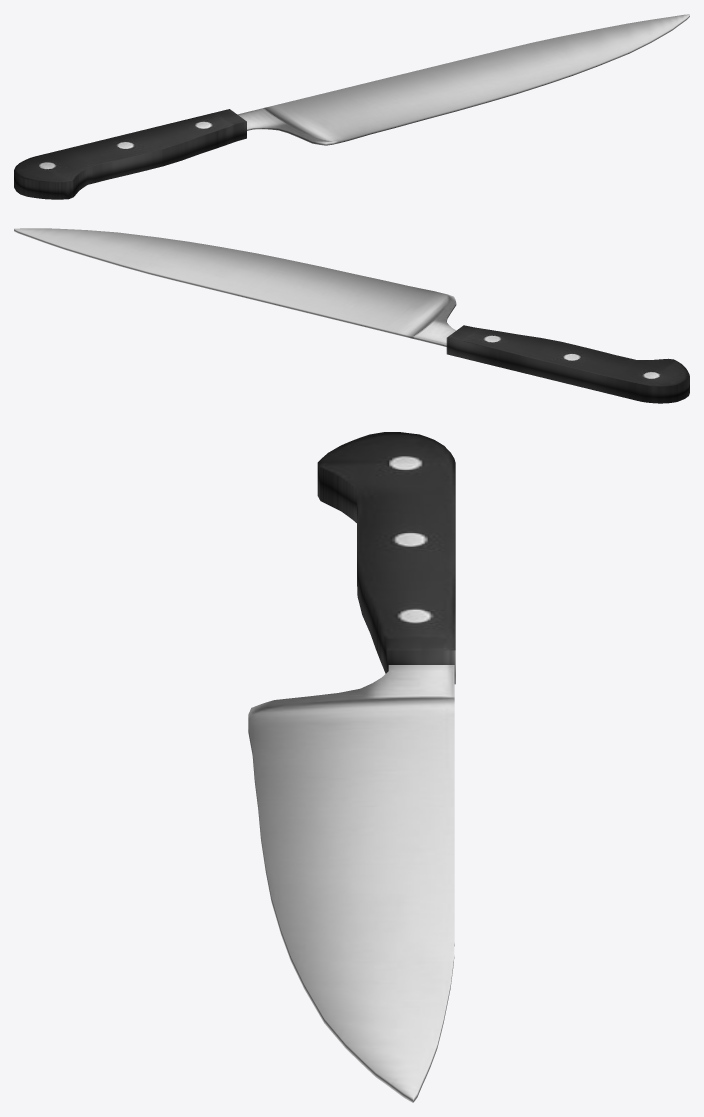
File: Knife.fbx
3 renders of one model, top to bottom at view 1: azimuth 30°, elevation 25°; view 2: azimuth 150°, elevation 25°; view 3: azimuth 270°, elevation 25°, orthographic. The views are drawn at different scales.
Parts seen in each view (by area): view 1: Handle; view 2: Handle; view 3: Handle.
Part boxes in pixels (x1,y1,x2,y2): Handle: [14, 14, 689, 199]; Handle: [14, 228, 689, 403]; Handle: [248, 432, 455, 1102].
Bounding box in the file's own units: 476 × 11.37 × 63.9.
